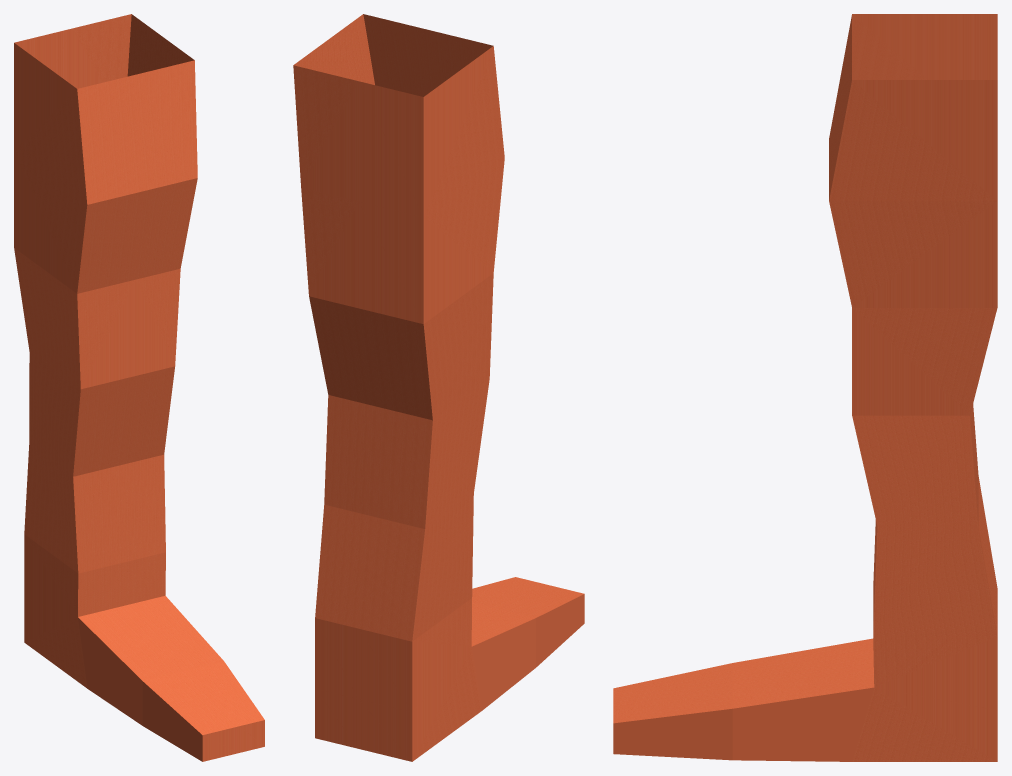
The model's file is Pierna_Derecha.obj.
The picture shows the model from 3 angles, left to right: view 1: azimuth 30°, elevation 25°; view 2: azimuth 150°, elevation 25°; view 3: azimuth 270°, elevation 25°; orthographic projection. The views are drawn at different scales.
Parts seen in each view (by area): view 1: Pierna_Derecha; view 2: Pierna_Derecha; view 3: Pierna_Derecha.
Boxes of the visible parts, <box> form: Pierna_Derecha: <box>14,14,264,761</box>; Pierna_Derecha: <box>293,14,584,761</box>; Pierna_Derecha: <box>613,14,997,761</box>.
Bounding box in the file's own units: 0.2166 × 1.06 × 0.5324.
1 material, 1 textured.
